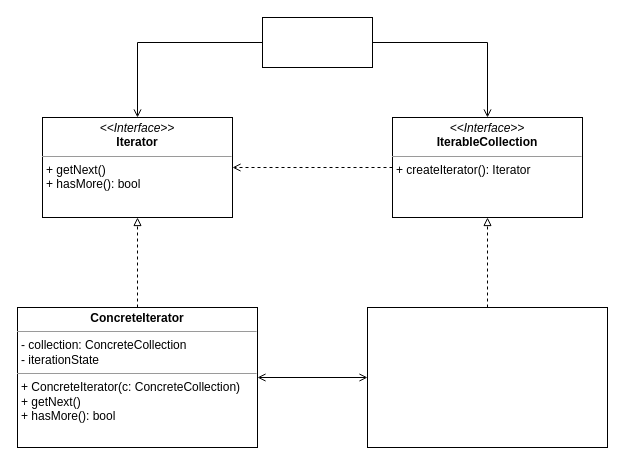
The diagram is 625 pixels wide and 465 high, and some of its shapes have lost their labels. Here are the shapes that lost their labels. From the top down, the centre of each, then its label:
At (x=317, y=42): "Client".
At (x=487, y=377): "ConcreteCollection ... ... + createIterator(): Iterator".
